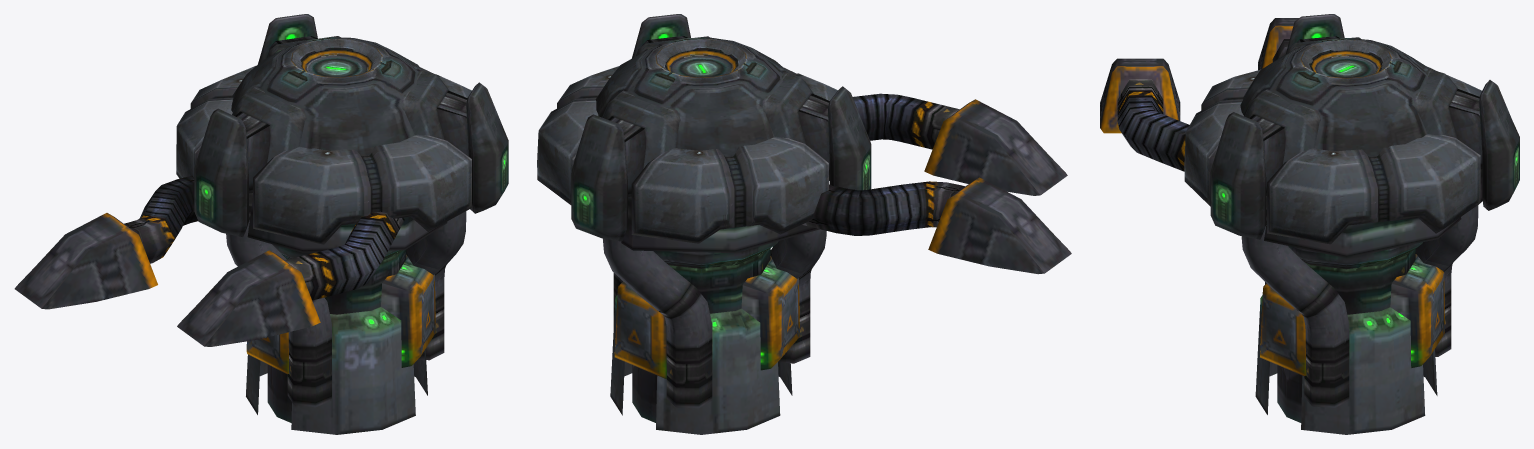
The model's file is ReactorEx1.glb.
3 views of the same model, side by side, from view 1: azimuth 30°, elevation 25°; view 2: azimuth 150°, elevation 25°; view 3: azimuth 270°, elevation 25° (orthographic).
Parts seen in each view (by area): view 1: Mesh; view 2: Mesh; view 3: Mesh.
Boxes of the visible parts, x1,y1,x2,y2 form: Mesh: (14,14,508,434); Mesh: (537,14,1071,434); Mesh: (1100,14,1519,434).
Size of the model in its own units: 2.86 by 1.98 by 2.2.
Materials: 1 (1 with a texture image).
